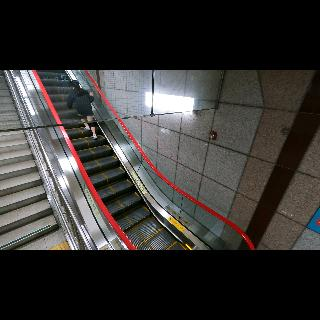anomaly: (64, 79, 100, 139)
